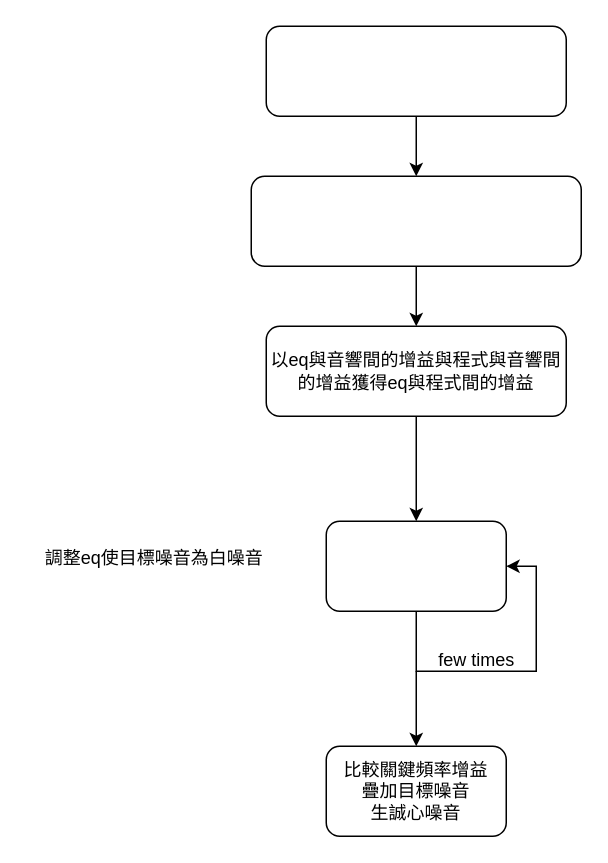
Some shapes in this 608 by 863 pixel diagram are drawn without their labels. Each missing label, with the box of its shape:
提示用戶操作系統eq 輸入可調範圍 比較default跟全頻段最大增益 取得eq與音響間的靈敏度與頻寬: (265, 25, 566, 116)
比較關鍵頻率增益 疊加目標噪音 生成新噪音: (325, 520, 506, 611)
